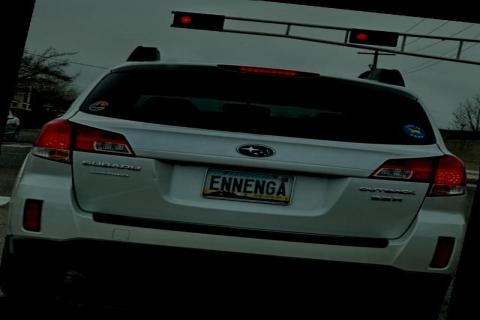LicensePlate: (197, 166, 295, 204)
